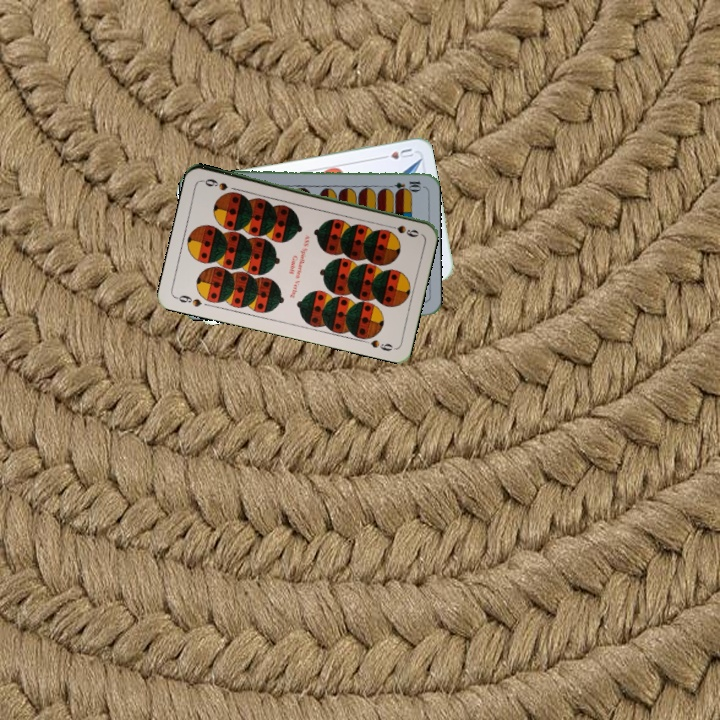E10: (383, 177, 423, 191)
HU: (376, 144, 416, 162)
S9: (382, 221, 421, 239), (172, 291, 204, 309)
